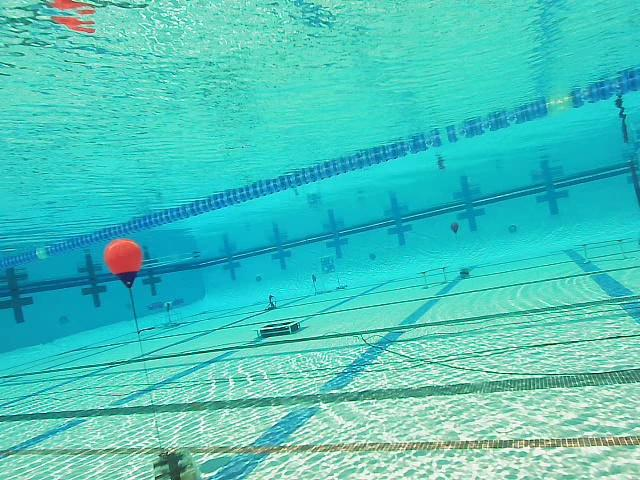buoy: (105, 238, 142, 289)
